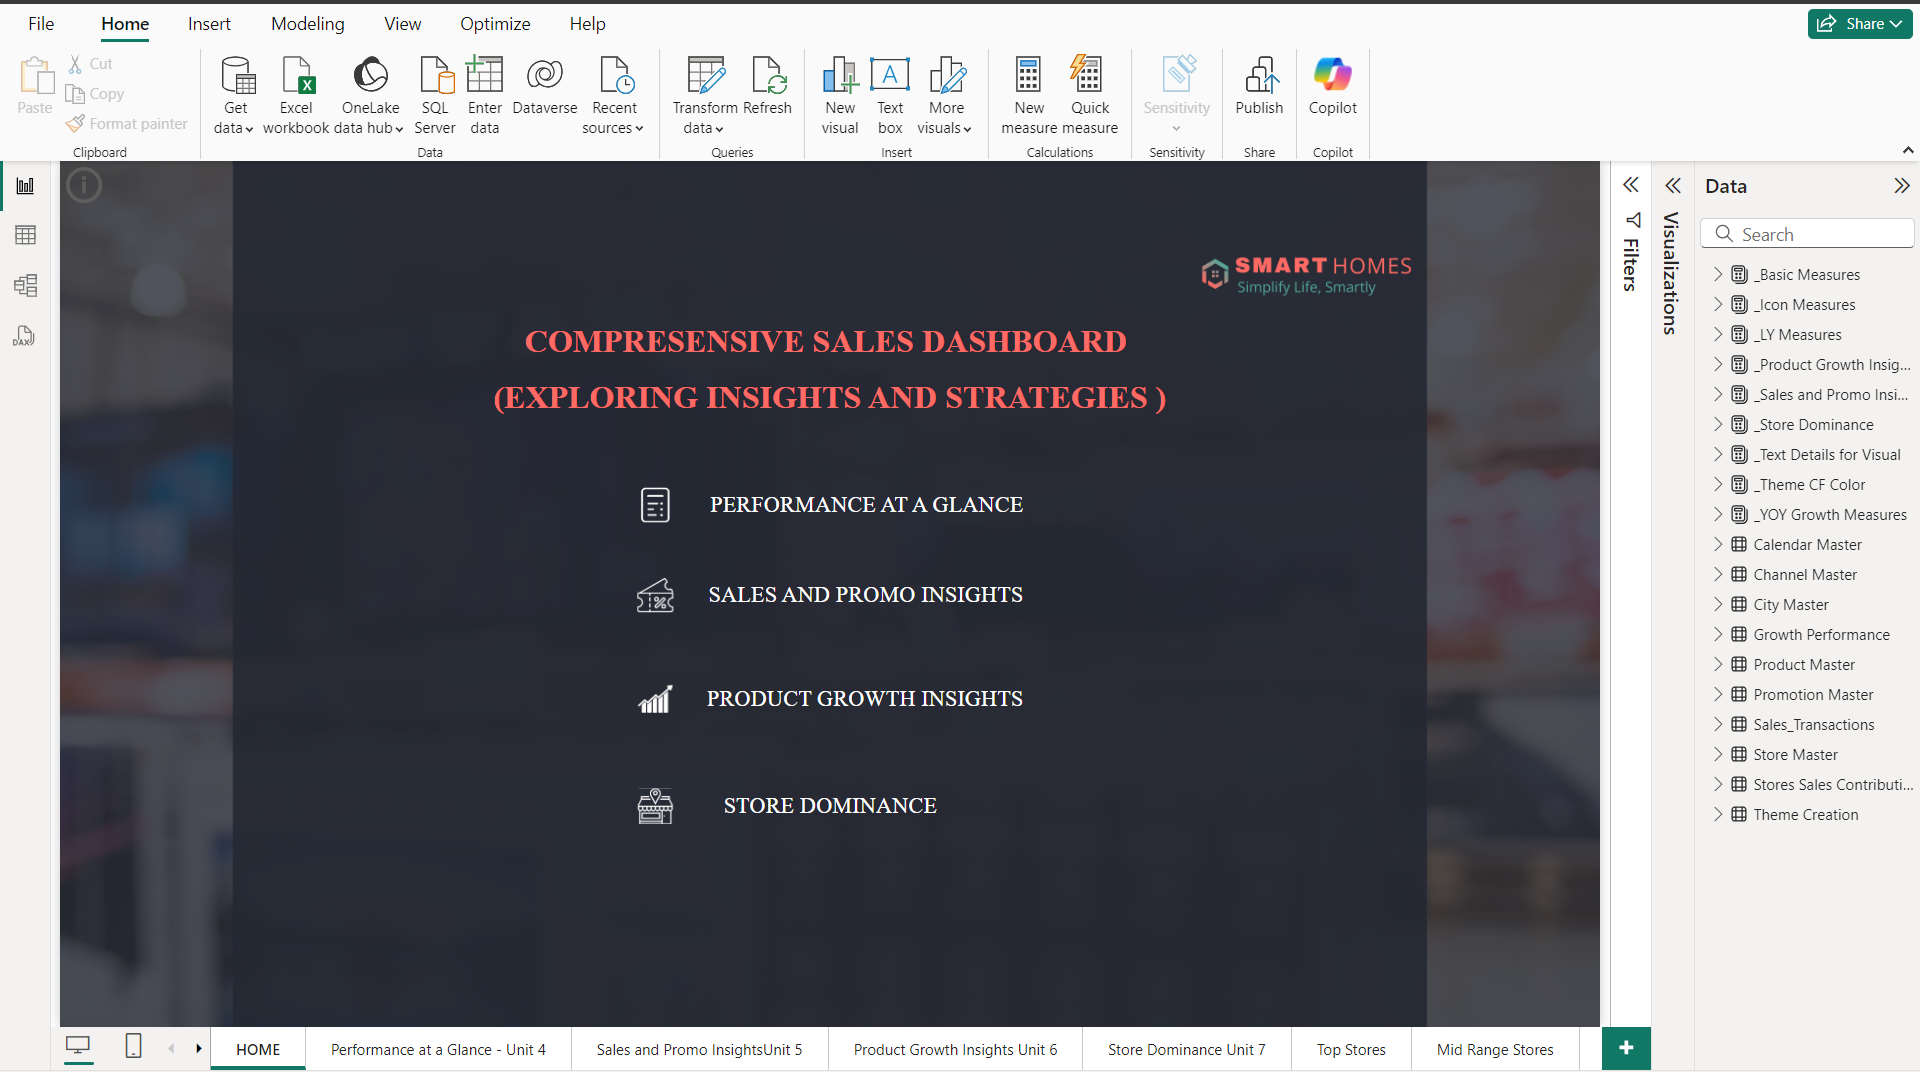

This screenshot's page, from the dashboard's own definition file:
{"tool":"powerbi","page":{"name":"Home","canvas":[1280,720],"ordinal":0},"visuals":[{"type":"shape","box":[47.3,9.5,1190.2,710.8],"z":0},{"type":"shape","box":[566.7,228.9,185.6,111.1],"z":1000},{"type":"shape","box":[393.3,360,187.8,111.1],"z":2000},{"type":"shape","box":[726.7,360,180,111.1],"z":3000},{"type":"textbox","box":[246,117,788,85],"z":4000}]}

Visuals, with their boxes on the page's 1280x720 design canvas (x1, y1, x2, y2). These are canvas units, not pixel positions in the 1920x1072 screenshot, which may show the page scaled, cropped or inside an application window:
shape: <box>47,10,1238,720</box>
shape: <box>567,229,752,340</box>
shape: <box>393,360,581,471</box>
shape: <box>727,360,907,471</box>
textbox: <box>246,117,1034,202</box>
